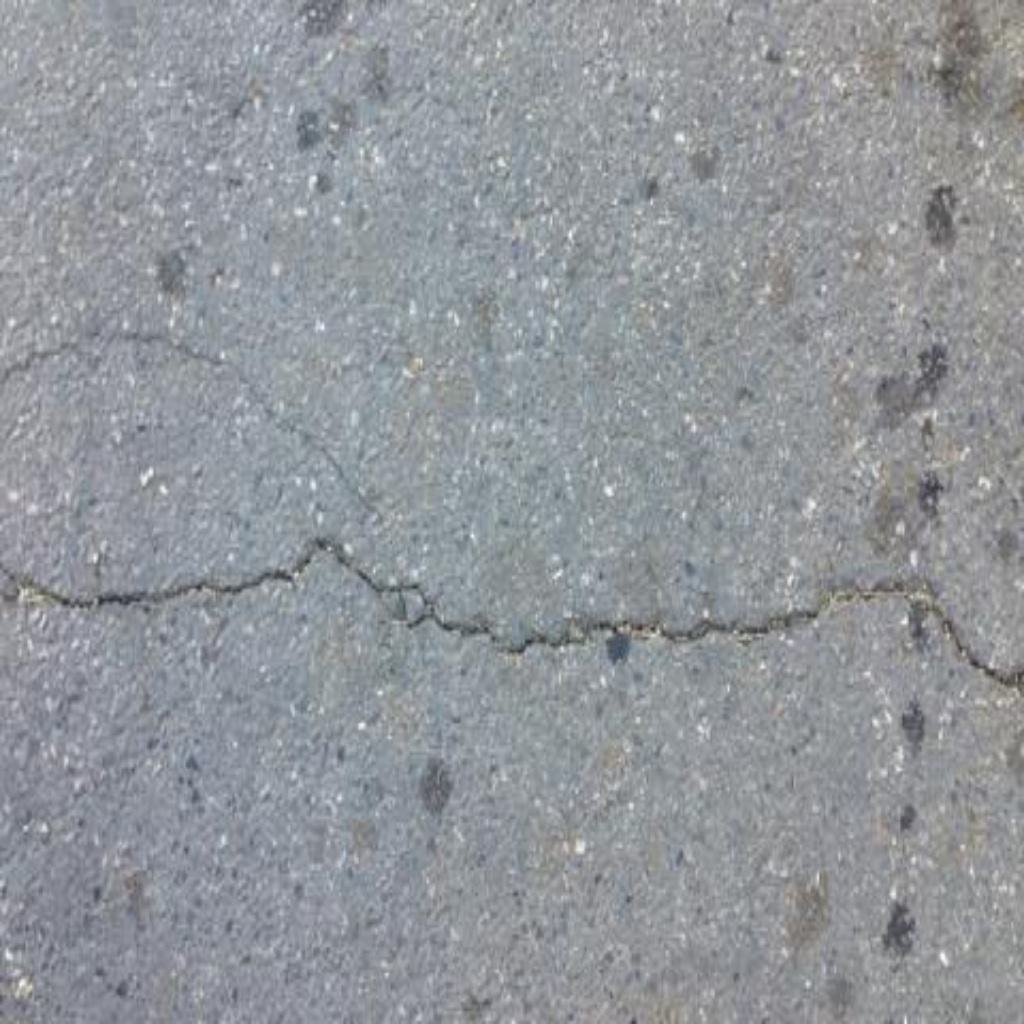Crack: (1, 539, 1024, 691), (1, 330, 386, 531)
